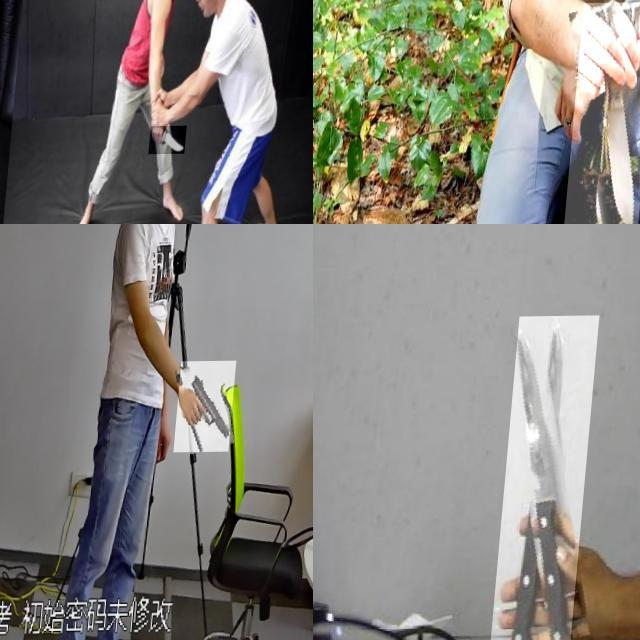-: (502, 316, 605, 640), (573, 3, 640, 224), (158, 128, 196, 156), (177, 0, 217, 17), (0, 129, 20, 161), (0, 0, 12, 19)
gun-knife-thesis - v11 Yolov5 augmented: (182, 362, 244, 454)
